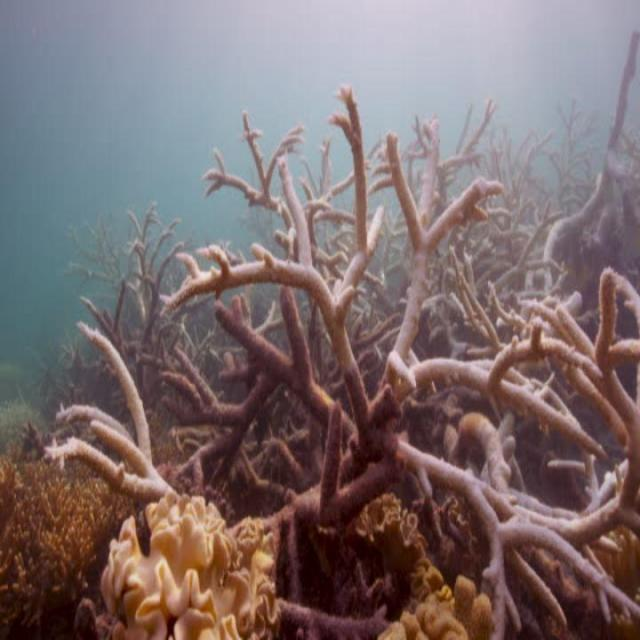Dead Coral: (84, 151, 622, 639)
